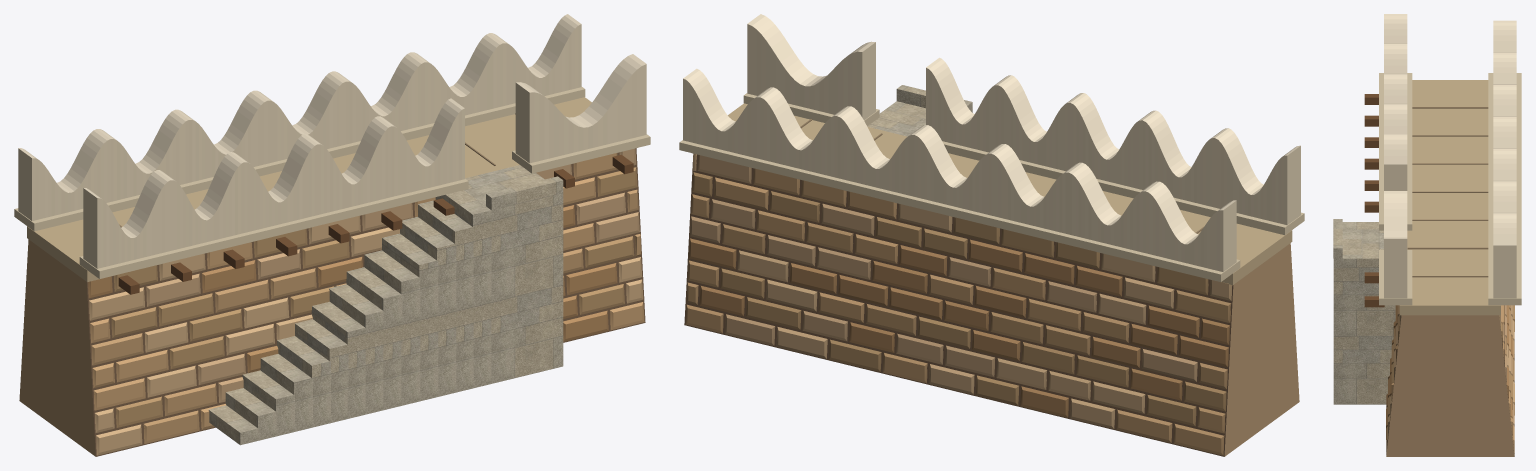
File: reinforced_wall.glb
3 views of the same model, side by side, from view 1: azimuth 30°, elevation 25°; view 2: azimuth 150°, elevation 25°; view 3: azimuth 270°, elevation 25° (orthographic). The views are drawn at different scales.
Visible parts, largest first — view 1: part_1, part_4, part_0, part_2, part_6, part_5, part_7, part_8; view 2: part_1, part_4, part_5, part_2, part_6, part_0, part_8; view 3: part_2, part_1, part_4, part_0, part_5, part_6, part_7, part_3, part_8.
Boxes of the visible parts, box(x1,y1,x2,y2) form: part_1: box(19, 148, 645, 456); part_4: box(18, 14, 646, 268); part_0: box(208, 165, 563, 445); part_2: box(27, 97, 636, 281); part_6: box(79, 179, 468, 278); part_5: box(14, 87, 585, 231); part_7: box(118, 154, 633, 294); part_8: box(512, 134, 650, 173); part_1: box(684, 153, 1299, 456); part_4: box(683, 14, 1300, 271); part_5: box(679, 140, 1240, 281); part_2: box(701, 103, 1292, 285); part_6: box(942, 141, 1304, 235); part_0: box(867, 85, 972, 136); part_8: box(743, 93, 879, 126); part_2: box(1399, 80, 1500, 315); part_1: box(1386, 305, 1514, 456); part_4: box(1384, 14, 1516, 298); part_0: box(1333, 219, 1395, 404); part_5: box(1488, 73, 1521, 305); part_6: box(1379, 73, 1412, 230); part_7: box(1364, 94, 1384, 307); part_3: box(1407, 107, 1488, 277); part_8: box(1379, 250, 1412, 305).
Bounding box in the file's own units: 7.37 × 3.32 × 2.6.
Materials: 6 (1 with a texture image).
